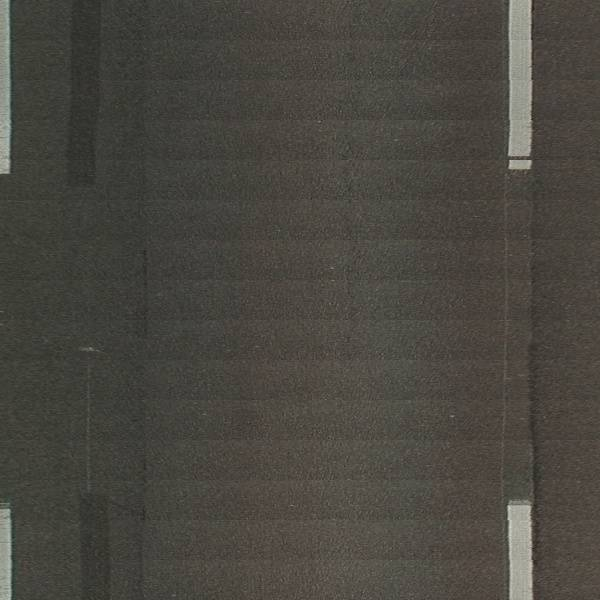road_damage: (528, 264, 547, 505), (135, 249, 148, 600)
